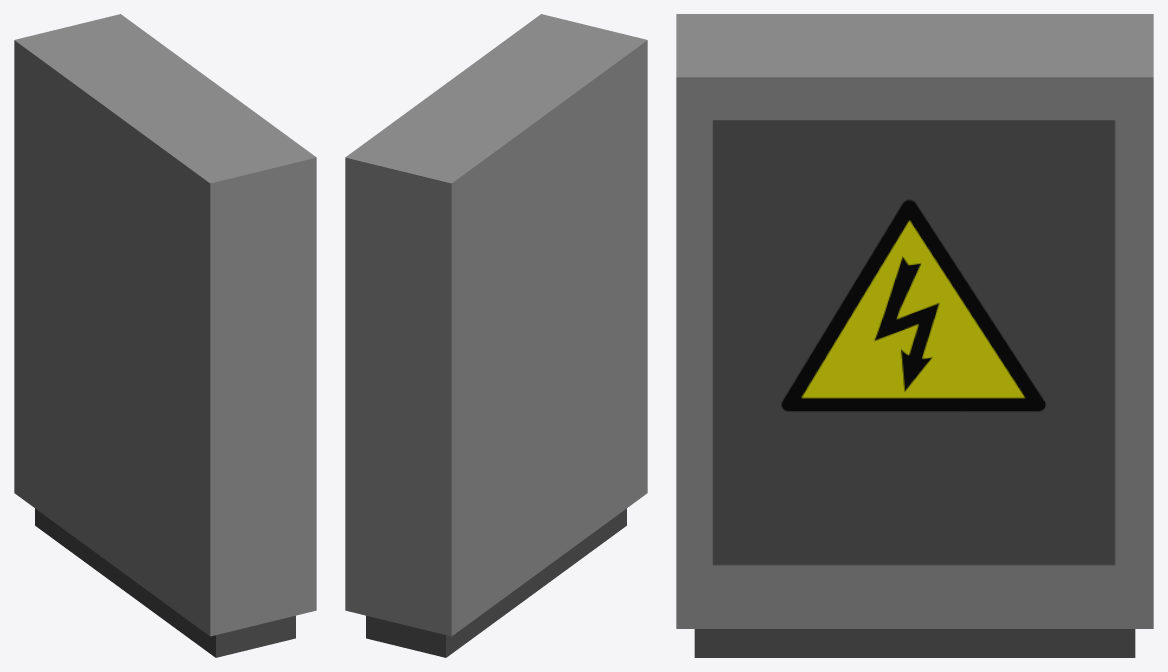
The model's file is electricity box.FBX.
3 views of the same model, side by side, from view 1: azimuth 30°, elevation 25°; view 2: azimuth 150°, elevation 25°; view 3: azimuth 270°, elevation 25° (orthographic). The views are drawn at different scales.
Visible parts, largest first — view 1: electricity box; view 2: electricity box; view 3: electricity box.
Part boxes in pixels (x1,y1,x2,y2): electricity box: (14,14,316,657); electricity box: (345,14,647,657); electricity box: (676,14,1153,657).
Bounding box in the file's own units: 23.94 × 104 × 76.32.
Materials: 1 (1 with a texture image).
